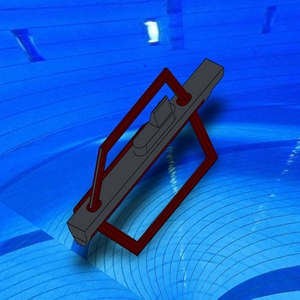submarine: (67, 52, 226, 259)
